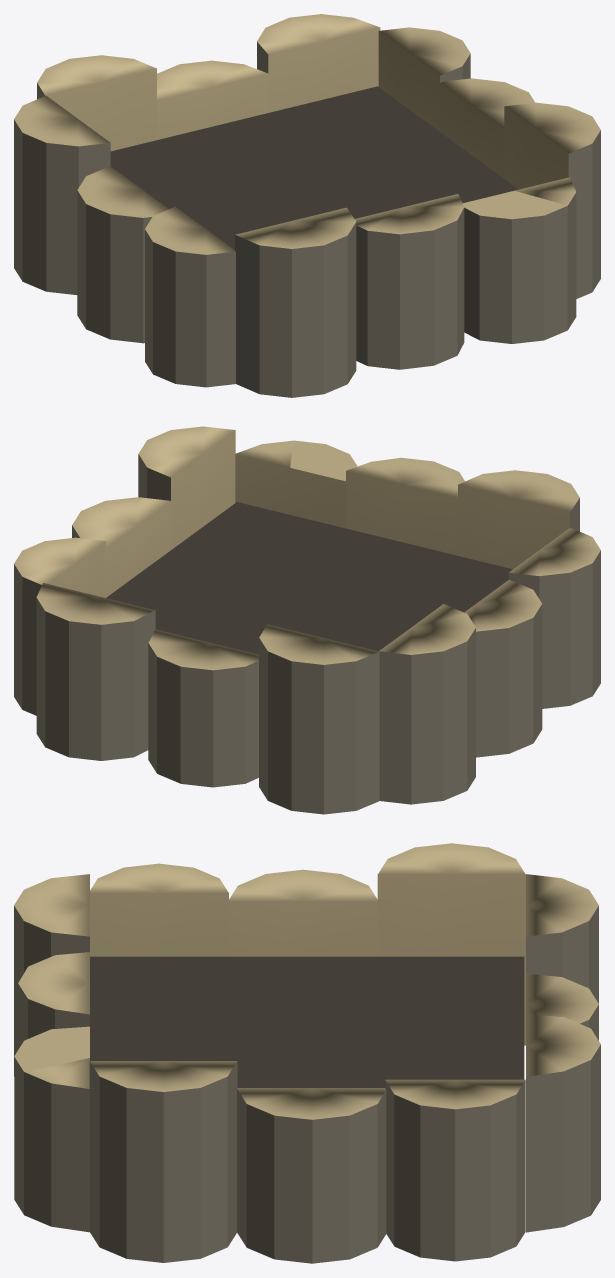
File: FlowerBoxLarge.fbx
The picture shows the model from 3 angles, top to bottom: view 1: azimuth 30°, elevation 25°; view 2: azimuth 150°, elevation 25°; view 3: azimuth 270°, elevation 25°; orthographic projection. The views are drawn at different scales.
Visible parts, largest first — view 1: Soil, FlowerBoxPlank4, FlowerBoxPlank6, FlowerBoxPlank7, FlowerBoxPlank10, FlowerBoxPlank11, FlowerBoxPlank12, FlowerBoxPlank5, FlowerBoxPlank2, FlowerBoxPlank1, FlowerBoxPlank3, FlowerBoxPlank8 (+1 smaller); view 2: Soil, FlowerBoxPlank1, FlowerBoxPlank2, FlowerBoxPlank11, FlowerBoxPlank3, FlowerBoxPlank12, FlowerBoxPlank10, FlowerBoxPlank4, FlowerBoxPlank6, FlowerBoxPlank5, FlowerBoxPlank7, FlowerBoxPlank8 (+1 smaller); view 3: Soil, FlowerBoxPlank5, FlowerBoxPlank9, FlowerBoxPlank8, FlowerBoxPlank11, FlowerBoxPlank2, FlowerBoxPlank7, FlowerBoxPlank10, FlowerBoxPlank12, FlowerBoxPlank1, FlowerBoxPlank4, FlowerBoxPlank6 (+1 smaller).
Boxes of the visible parts, x1,y1,x2,y2 form: Soil: (110,86,518,249); FlowerBoxPlank4: (235,207,356,397); FlowerBoxPlank6: (355,194,464,369); FlowerBoxPlank7: (463,177,576,343); FlowerBoxPlank10: (145,206,235,387); FlowerBoxPlank11: (14,95,110,294); FlowerBoxPlank12: (77,166,168,343); FlowerBoxPlank5: (504,102,600,298); FlowerBoxPlank2: (257,14,380,112); FlowerBoxPlank1: (37,55,156,151); FlowerBoxPlank3: (157,60,268,139); FlowerBoxPlank8: (378,27,470,131); Soil: (106,502,512,654); FlowerBoxPlank1: (259,624,379,814); FlowerBoxPlank2: (36,583,155,760); FlowerBoxPlank11: (379,604,475,804); FlowerBoxPlank3: (148,629,258,787); FlowerBoxPlank12: (464,580,542,757); FlowerBoxPlank10: (508,528,600,708); FlowerBoxPlank4: (458,470,579,568); FlowerBoxPlank6: (346,457,464,555); FlowerBoxPlank5: (138,426,235,549); FlowerBoxPlank7: (235,440,357,528); FlowerBoxPlank8: (14,537,106,715); Soil: (90,956,524,1087); FlowerBoxPlank5: (89,1061,237,1262); FlowerBoxPlank9: (237,1088,386,1263); FlowerBoxPlank8: (385,1079,525,1261); FlowerBoxPlank11: (377,843,525,1045); FlowerBoxPlank2: (526,1014,600,1232); FlowerBoxPlank7: (14,1026,89,1232); FlowerBoxPlank10: (90,863,228,956); FlowerBoxPlank12: (227,869,378,956); FlowerBoxPlank1: (526,874,598,1003); FlowerBoxPlank4: (14,874,89,1076); FlowerBoxPlank6: (18,952,89,1049).
Bounding box in the file's own units: 2.21 × 0.703 × 2.19.
